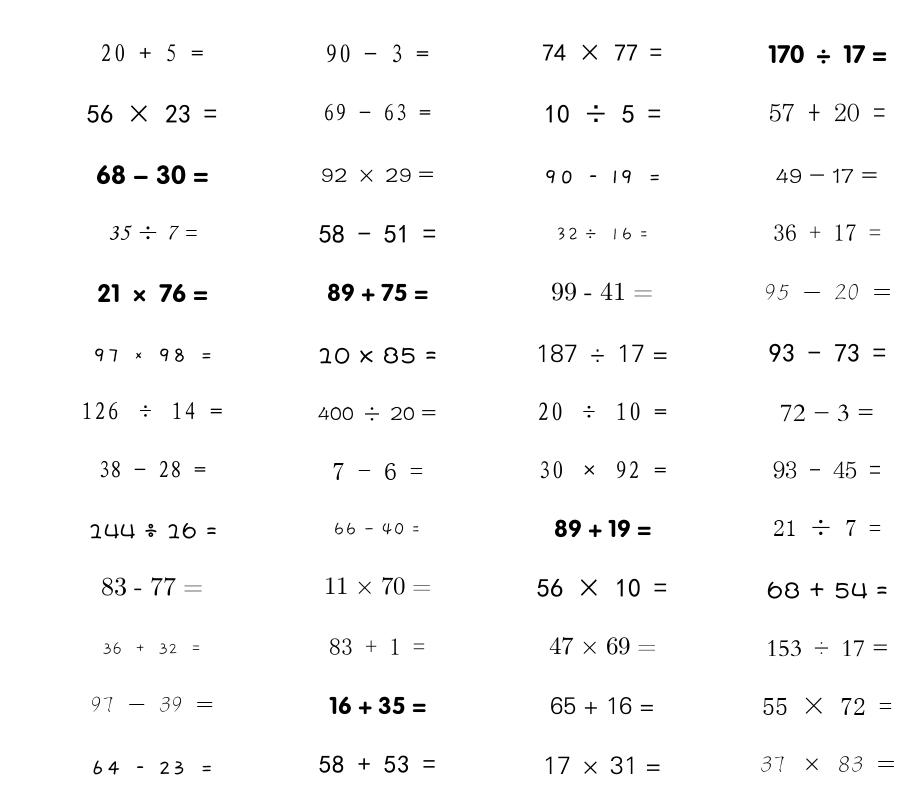MQ: (537, 578, 667, 598), (81, 402, 223, 420), (536, 344, 668, 363), (87, 104, 217, 123), (537, 402, 667, 421), (768, 44, 887, 64), (544, 104, 661, 124), (762, 697, 892, 715), (538, 461, 667, 479), (760, 756, 895, 773), (96, 165, 209, 185), (543, 756, 661, 775), (769, 103, 886, 122), (319, 224, 436, 243), (769, 343, 886, 362), (97, 283, 208, 303), (88, 522, 217, 539), (767, 581, 888, 599), (90, 696, 214, 713), (319, 755, 436, 773), (766, 640, 889, 657), (542, 44, 662, 61), (317, 347, 437, 364), (764, 284, 891, 300), (550, 696, 655, 715), (325, 44, 429, 63), (323, 103, 431, 121), (98, 460, 206, 478), (773, 461, 881, 479), (551, 282, 653, 301), (101, 577, 203, 596), (324, 577, 431, 595), (549, 637, 656, 655), (327, 283, 428, 302), (100, 44, 204, 62), (90, 760, 214, 775), (554, 519, 651, 538), (329, 696, 426, 715), (773, 224, 881, 241), (773, 519, 881, 536), (318, 406, 436, 421), (92, 348, 213, 362), (780, 404, 874, 422), (543, 170, 662, 184), (776, 168, 878, 184), (329, 638, 425, 655), (321, 168, 434, 182), (332, 463, 423, 480), (108, 225, 197, 240), (555, 227, 649, 241), (102, 642, 202, 655), (333, 522, 421, 536)
